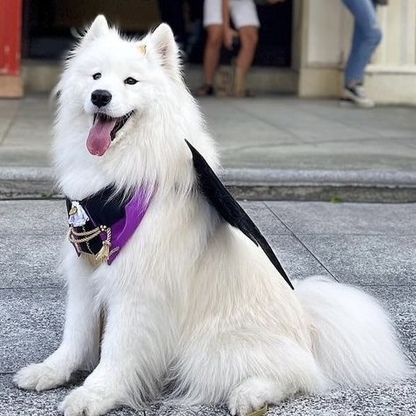samoyed: (6, 8, 409, 416)
